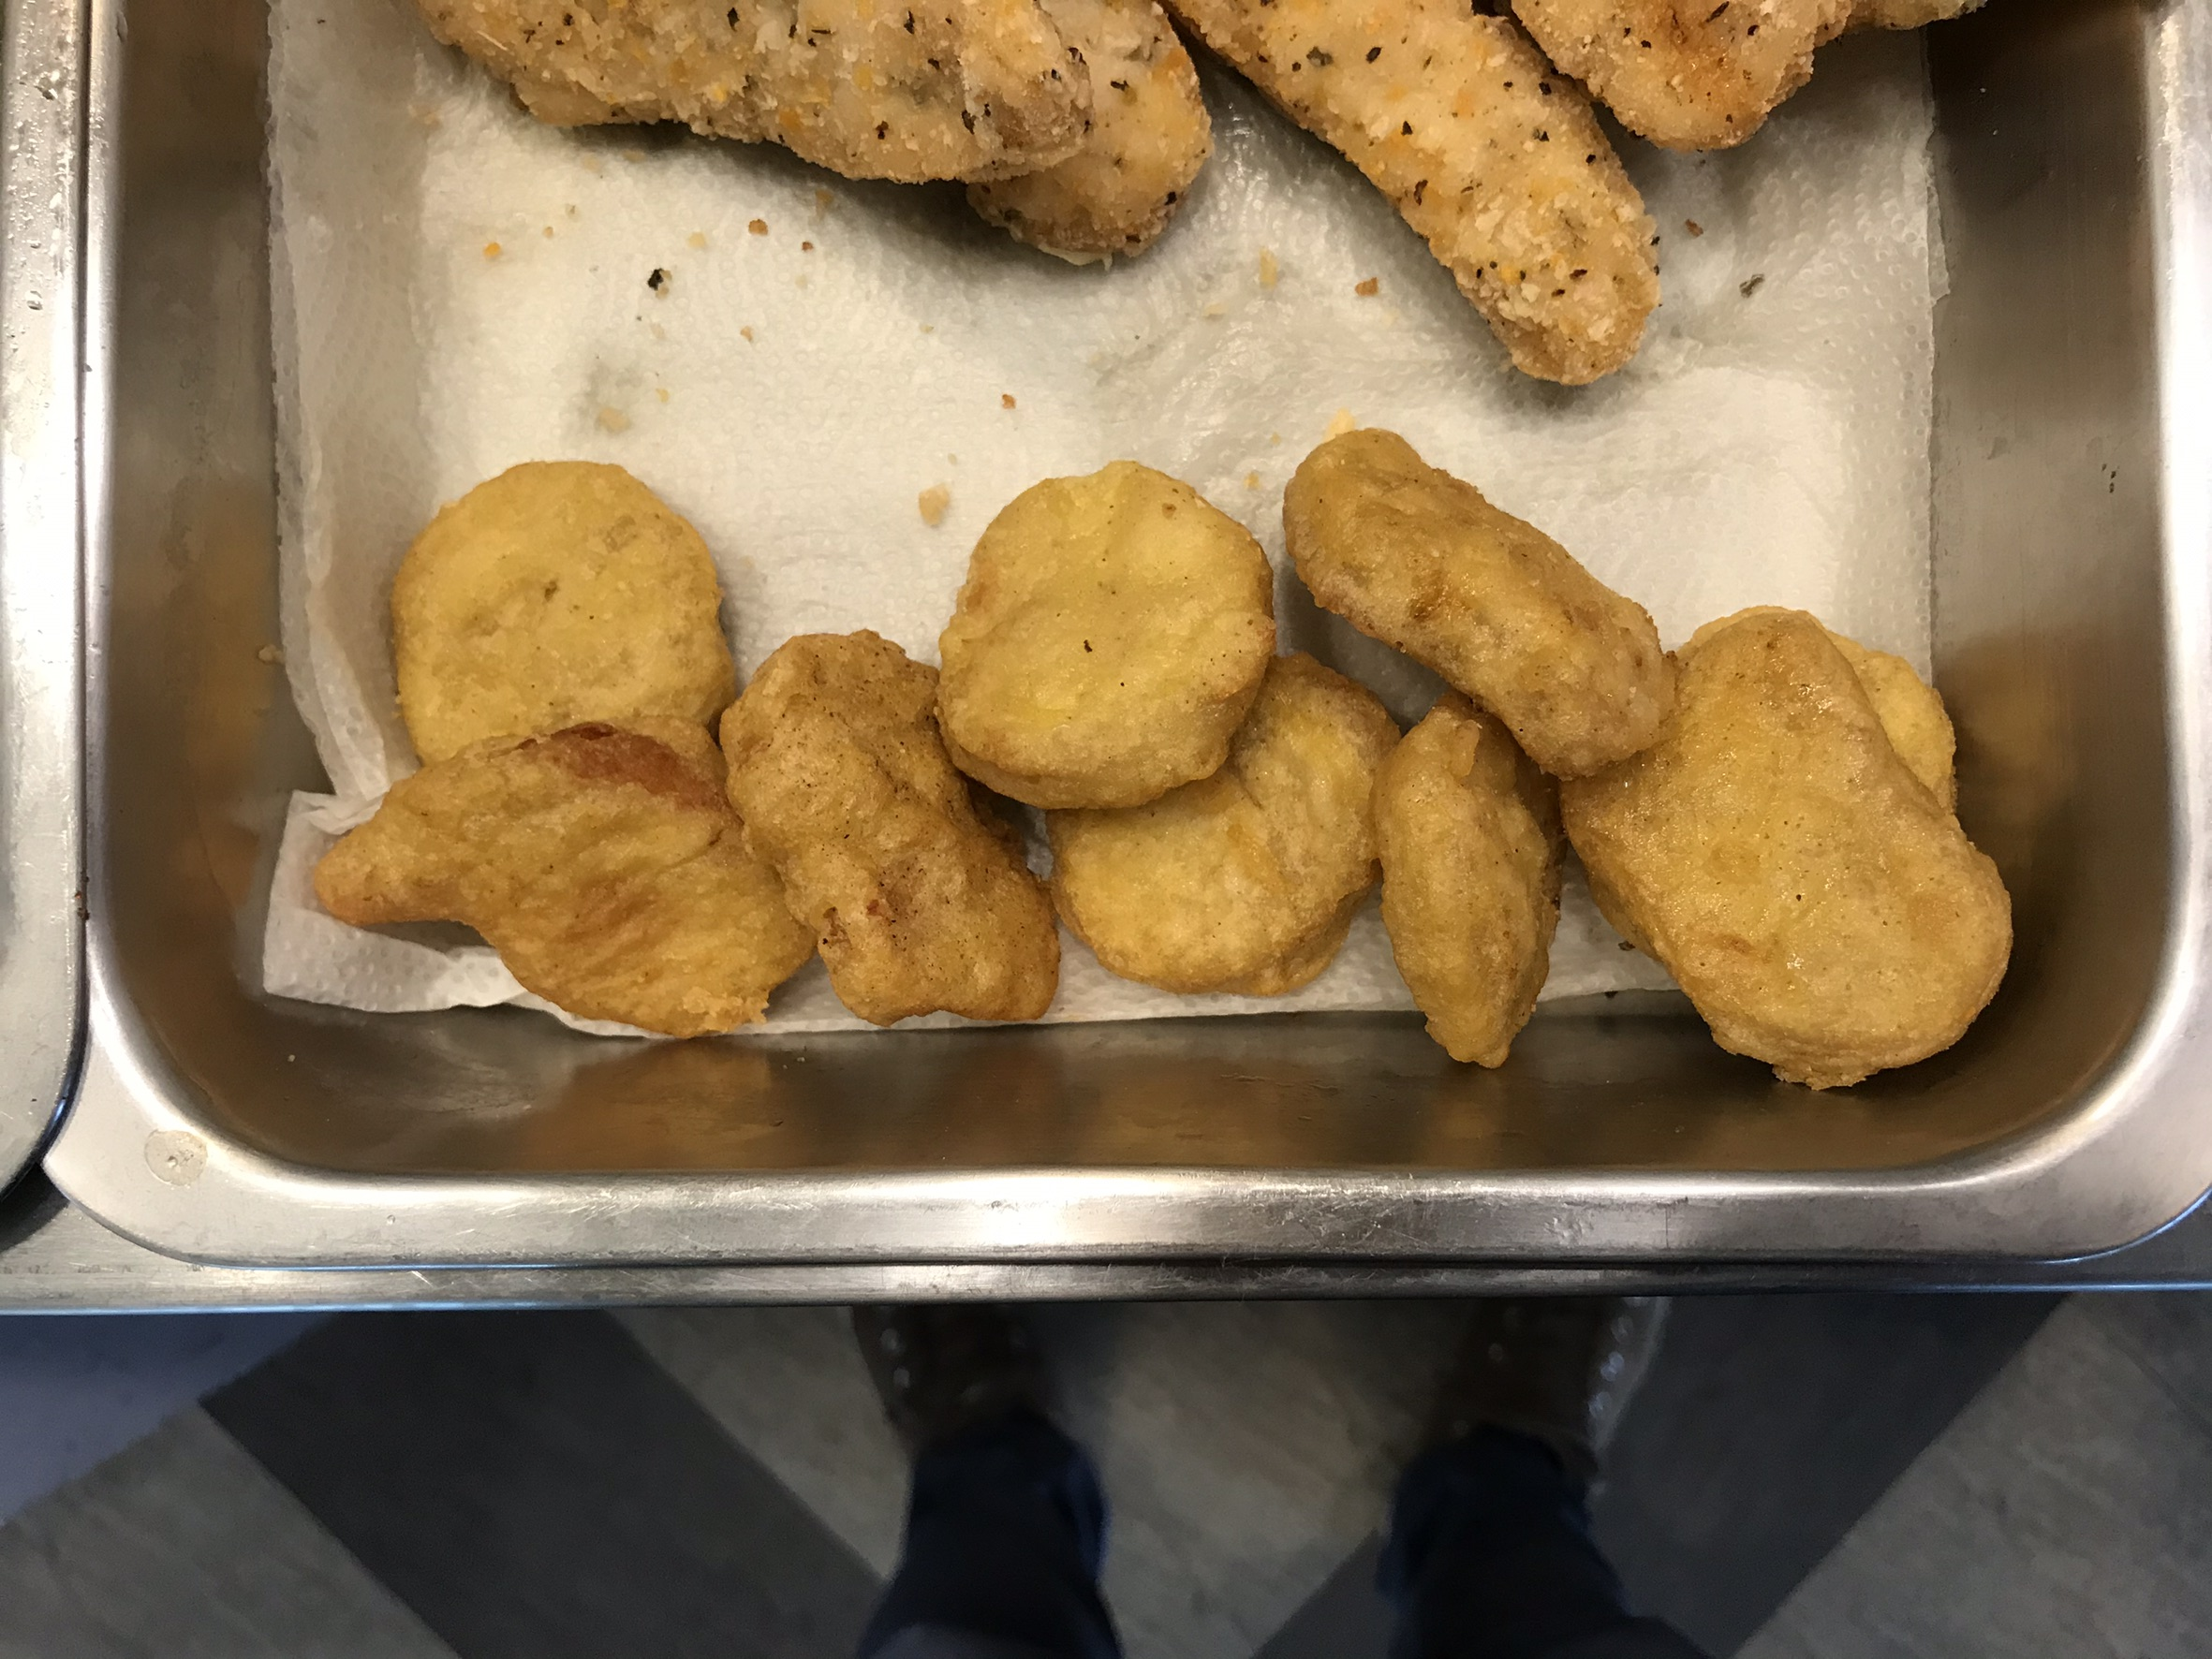chicken_nuggets: (316, 455, 2017, 1082)
